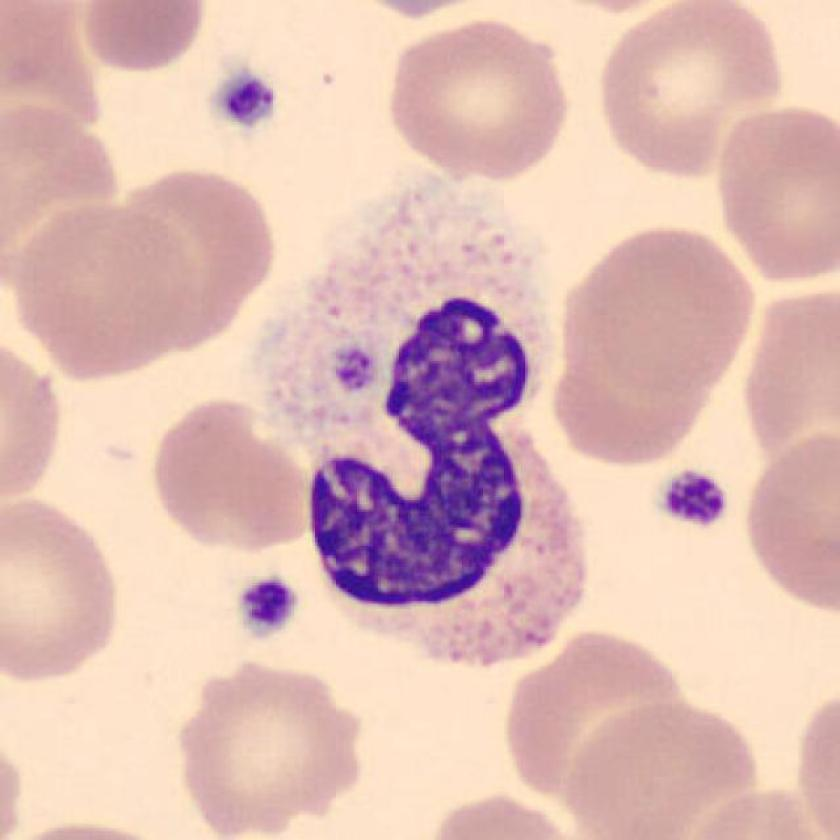neutrophil: (249, 185, 589, 668)
